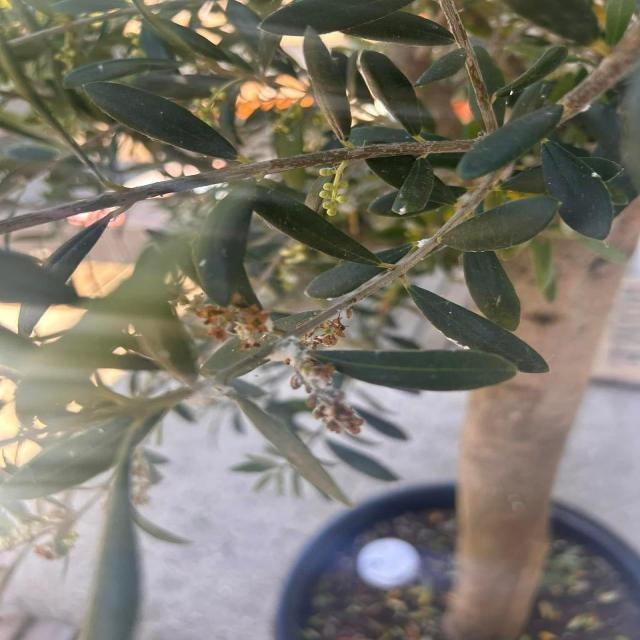Psyllid: (280, 338, 363, 434)
